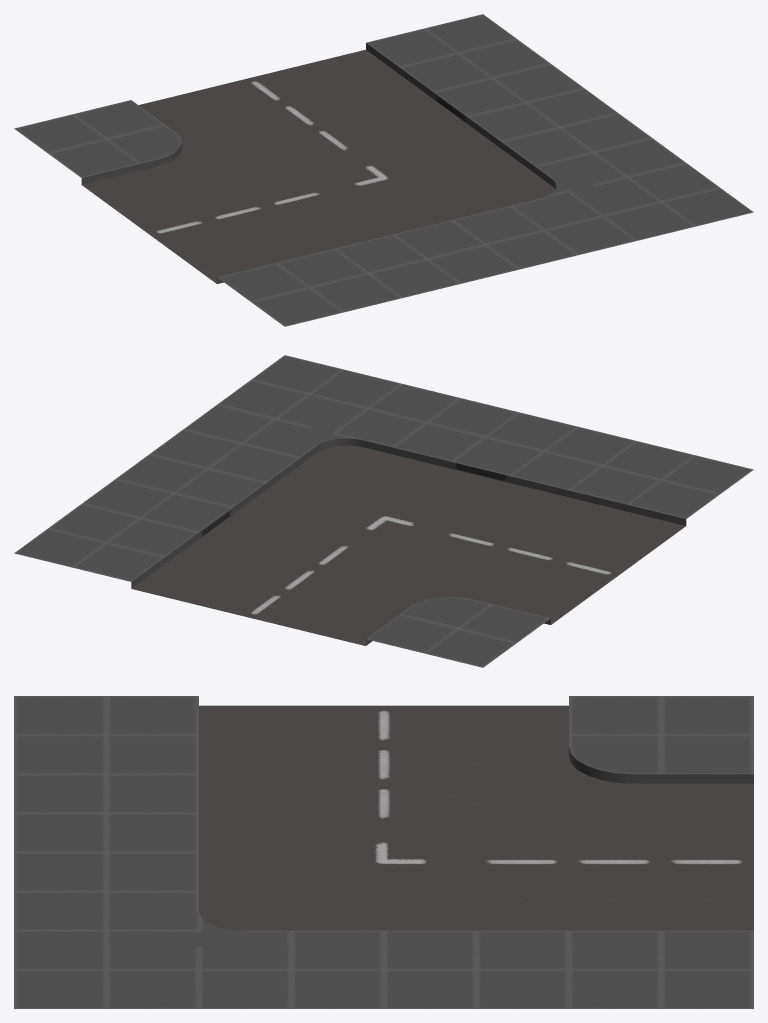
File: bochtweg3.fbx
The picture shows the model from 3 angles, top to bottom: view 1: azimuth 30°, elevation 25°; view 2: azimuth 150°, elevation 25°; view 3: azimuth 270°, elevation 25°; orthographic projection. The views are drawn at different scales.
Visible parts, largest first — view 1: pPlane10; view 2: pPlane10; view 3: pPlane10.
Part boxes in pixels (box(x1,y1,x2,y2)): pPlane10: box(14, 14, 753, 326); pPlane10: box(14, 355, 753, 667); pPlane10: box(14, 696, 753, 1008).
Bounding box in the file's own units: 22.88 × 0.3225 × 22.88.
